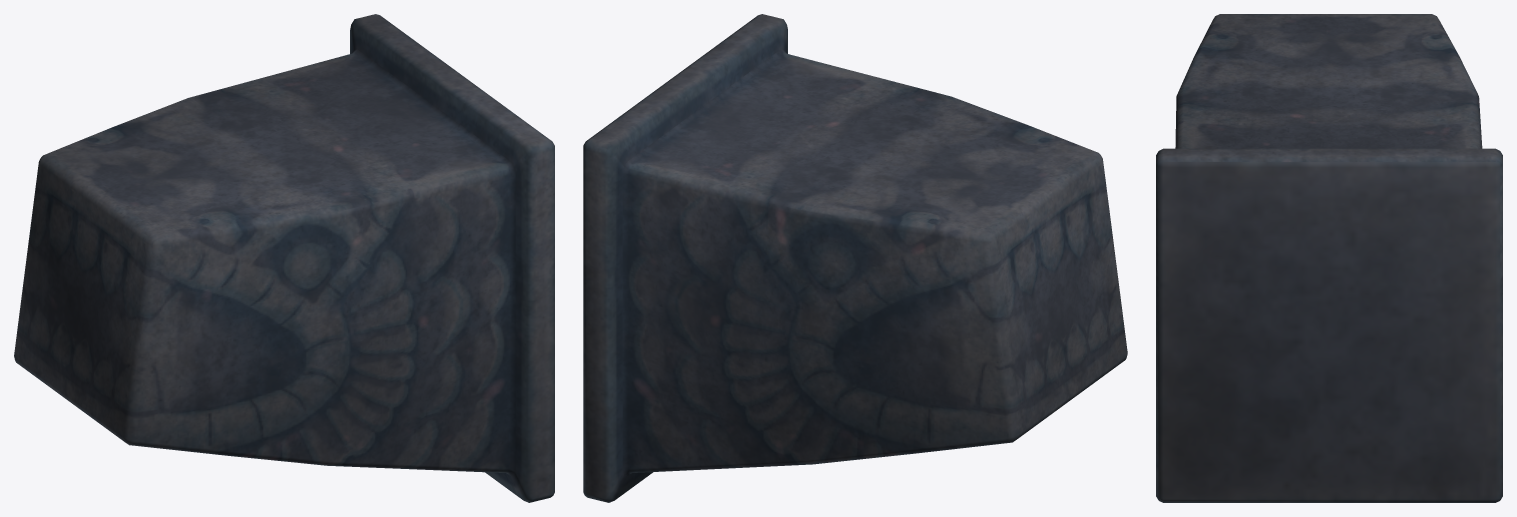
Rendered from SM_Tosu01a.fbx.
The picture shows the model from 3 angles, left to right: view 1: azimuth 30°, elevation 25°; view 2: azimuth 150°, elevation 25°; view 3: azimuth 270°, elevation 25°; orthographic projection. The views are drawn at different scales.
Parts seen in each view (by area): view 1: SM_Tosu01a; view 2: SM_Tosu01a; view 3: SM_Tosu01a.
Part boxes in pixels (left/top/right/bottom): SM_Tosu01a: left=14, top=14, right=554, bottom=502; SM_Tosu01a: left=583, top=14, right=1127, bottom=502; SM_Tosu01a: left=1156, top=14, right=1502, bottom=502.
Size of the model in its own units: 34.82 by 27.02 by 29.68.
1 material, 1 textured.
